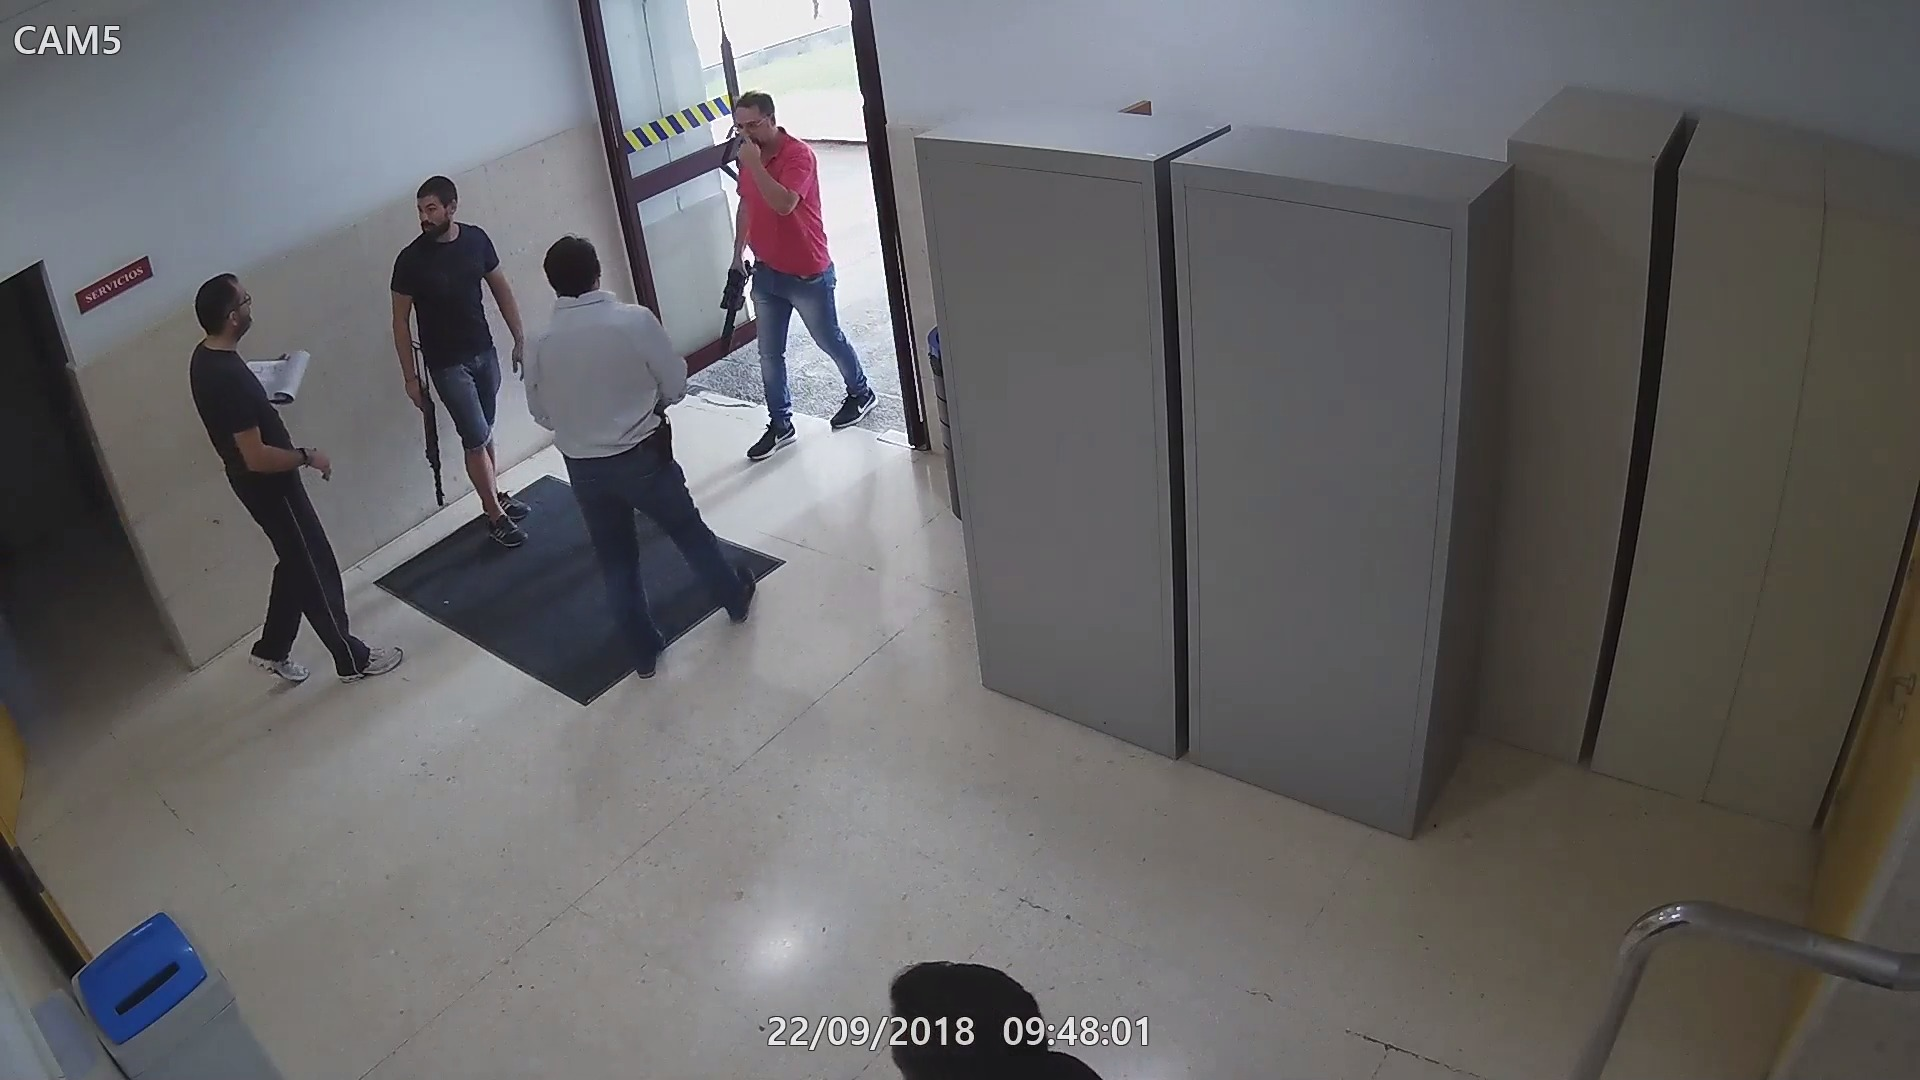Short_rifle: (404, 371, 448, 506), (715, 243, 749, 364)
